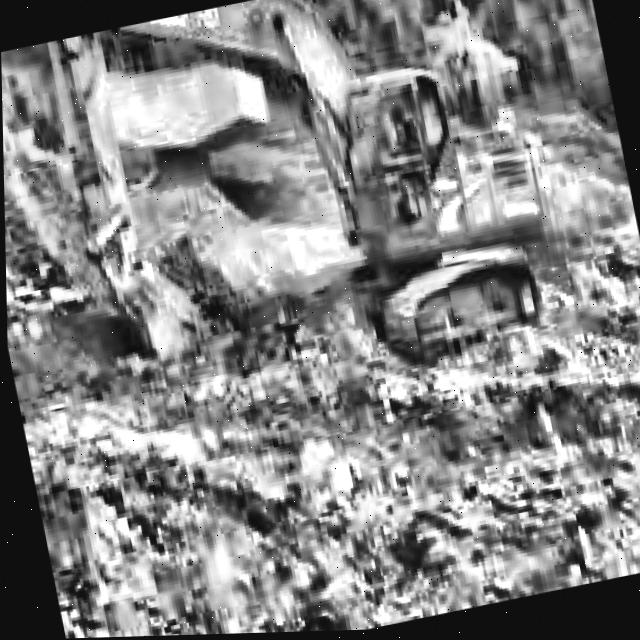excavator: (28, 0, 573, 442)
